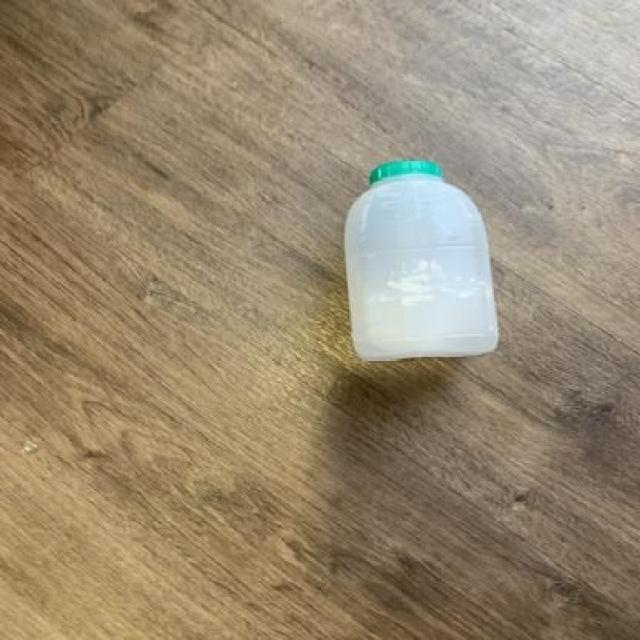trash: (340, 162, 508, 362)
